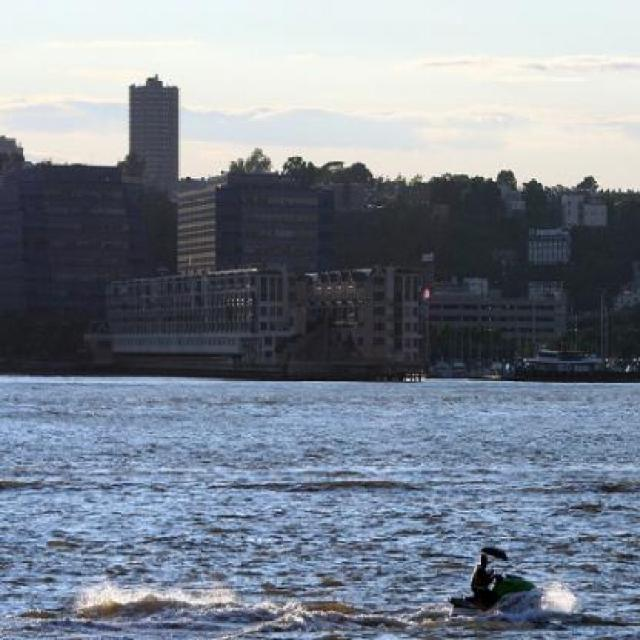ship: (451, 552, 543, 622), (505, 350, 603, 382)
